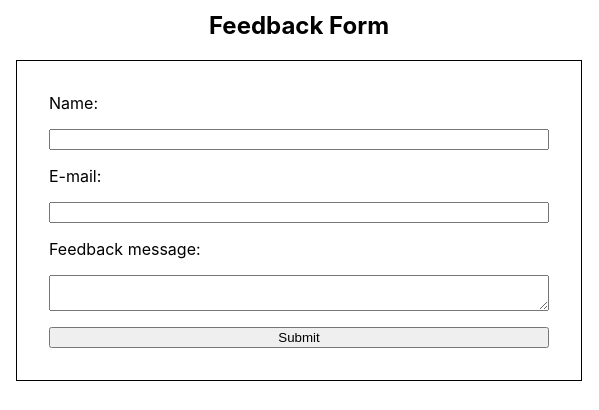
Test: shows error if API fails
Type "John Doe" into the field labelled "Name:" at (299,139), box [49,129,549,150]
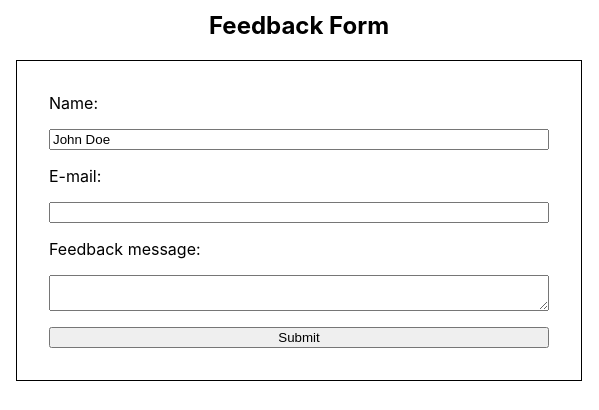
Type "john@example.com" into the field labelled "E-mail:" at (299,212), box [49,202,549,223]
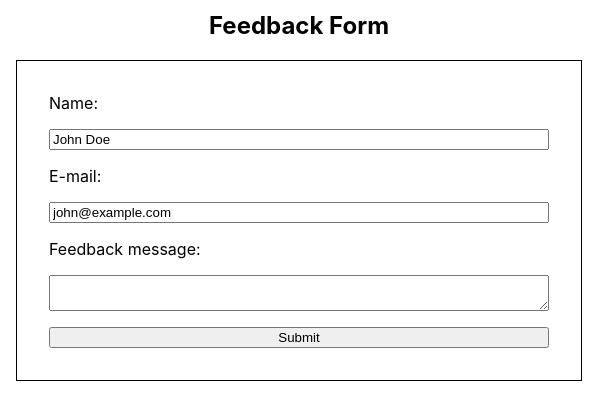
Type "Your platform looks great!" into the text box labelled "Feedback message:" at (299,293), box [49,275,549,311]
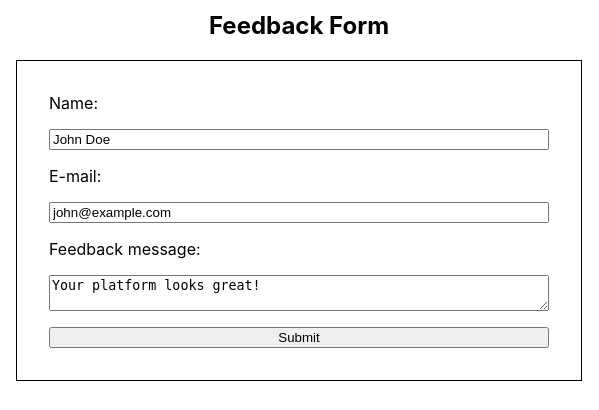
Click the button "Submit" at (299,337), box [49,327,549,348]
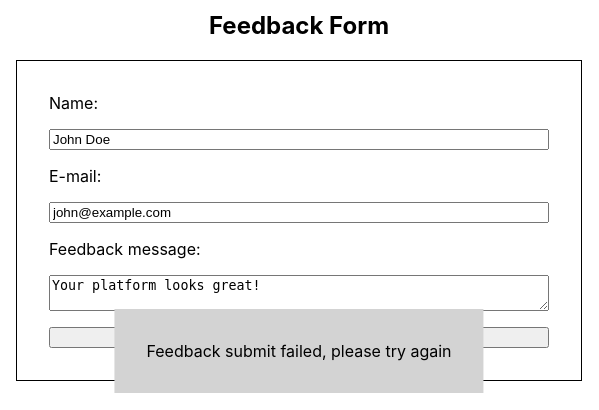
Expected: the text "Feedback submit failed, please try again" is shown, [114,309,484,393]
